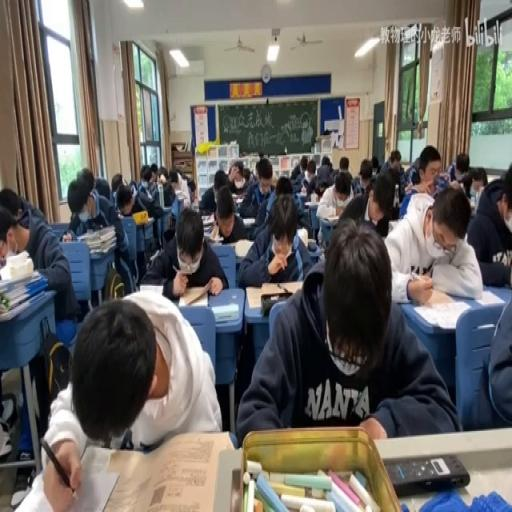calculator: (409, 296, 472, 327), (245, 280, 302, 309), (0, 266, 40, 292), (178, 282, 213, 304), (474, 288, 504, 306), (212, 302, 238, 322), (233, 236, 254, 256), (136, 284, 163, 296), (201, 214, 214, 234), (295, 224, 307, 244), (468, 189, 478, 209), (320, 212, 339, 222), (232, 193, 245, 205), (240, 214, 254, 224), (388, 219, 398, 232), (305, 198, 321, 206), (204, 232, 218, 240), (190, 202, 200, 212), (300, 185, 306, 193)
paper: (234, 218, 452, 442), (26, 287, 222, 509), (0, 189, 82, 365), (142, 203, 228, 299), (69, 171, 130, 293), (466, 158, 512, 283), (236, 156, 274, 234), (342, 170, 387, 230), (131, 172, 163, 243), (402, 145, 442, 201), (282, 170, 314, 234), (376, 148, 406, 203), (0, 205, 19, 264), (305, 158, 328, 199), (168, 165, 190, 205), (446, 151, 470, 185), (212, 168, 230, 203), (93, 175, 111, 202), (78, 165, 94, 193), (274, 174, 293, 196), (433, 173, 449, 195), (111, 170, 125, 194), (117, 192, 131, 213), (358, 166, 372, 185), (350, 176, 362, 196), (149, 160, 158, 184), (140, 165, 150, 185), (158, 166, 168, 185), (232, 162, 242, 179), (370, 154, 379, 172), (290, 164, 300, 179), (299, 154, 308, 170), (338, 155, 348, 169), (448, 179, 461, 189), (130, 179, 138, 195), (242, 168, 250, 182), (270, 175, 278, 188), (321, 155, 330, 165)
person: (386, 452, 470, 494), (307, 239, 318, 250)
